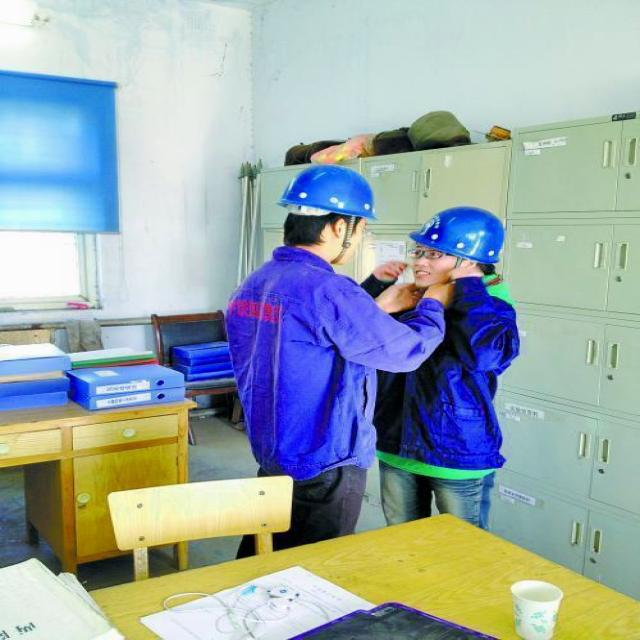face_nomask: (301, 218, 379, 272), (398, 245, 458, 289)
glasses: (404, 243, 450, 261)
head_helmet: (401, 199, 513, 264), (280, 162, 378, 218)
person: (218, 153, 382, 530), (385, 196, 520, 524)
